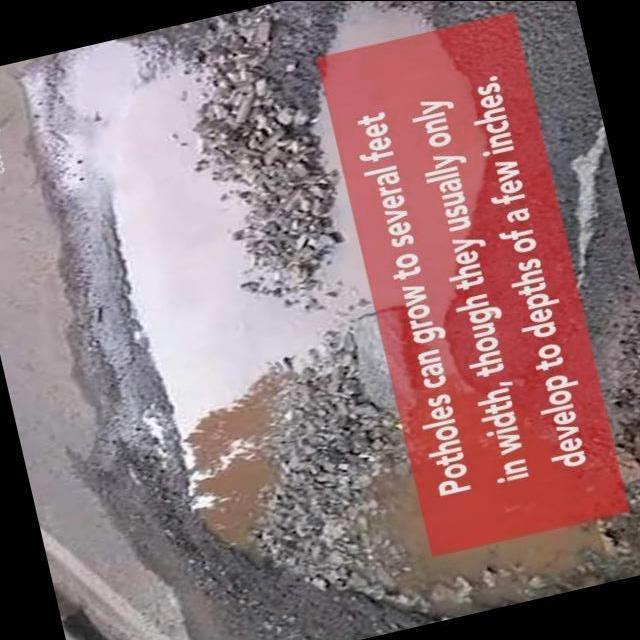pothole: (75, 44, 324, 432), (360, 468, 570, 592), (186, 394, 275, 547), (316, 88, 372, 308), (328, 2, 434, 53), (330, 4, 432, 52)
